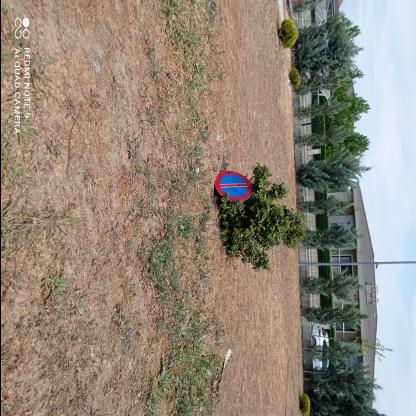No Waiting: (215, 173, 252, 203)
